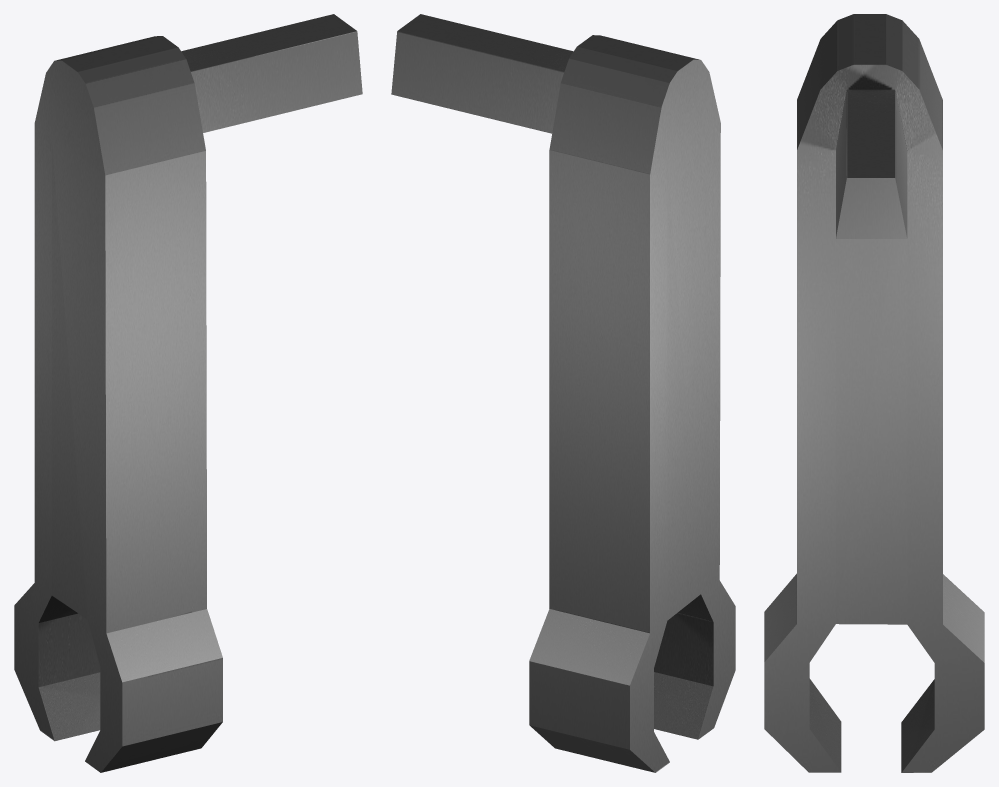
The model's file is robotarmleft4.dae.
The picture shows the model from 3 angles, left to right: view 1: azimuth 30°, elevation 25°; view 2: azimuth 150°, elevation 25°; view 3: azimuth 270°, elevation 25°; orthographic projection. The views are drawn at different scales.
Parts seen in each view (by area): view 1: Cube; view 2: Cube; view 3: Cube.
Part boxes in pixels (x1=…): Cube: x1=14, y1=14, x2=362, y2=772; Cube: x1=391, y1=14, x2=735, y2=772; Cube: x1=764, y1=14, x2=984, y2=772.
Bounding box in the file's own units: 1.09 × 0.7326 × 2.59.
1 material, 1 textured.
